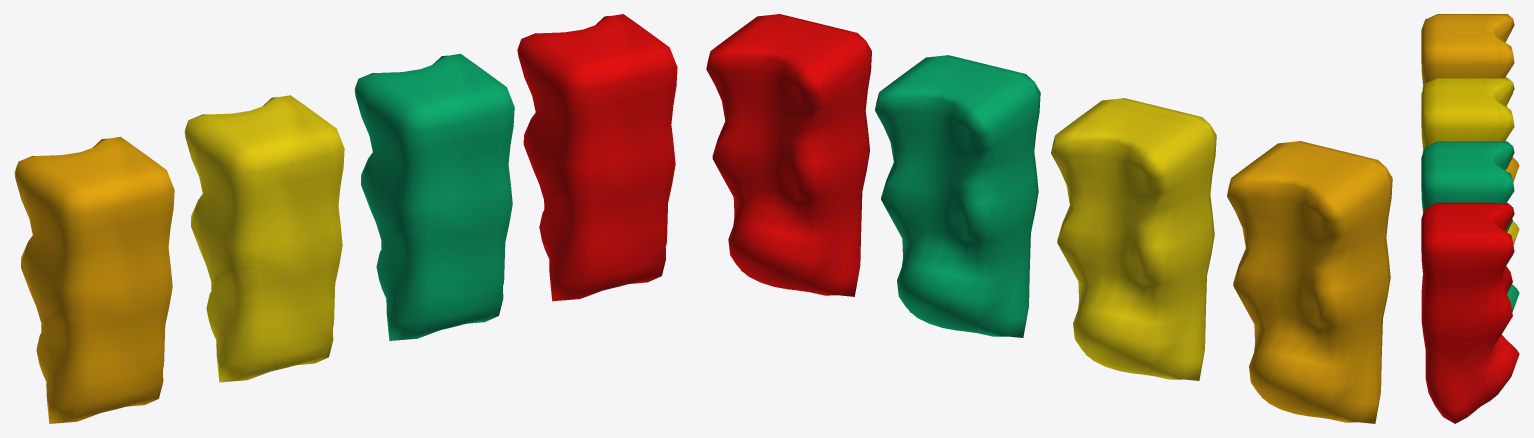
Rendered from gummibär.fbx.
The picture shows the model from 3 angles, left to right: view 1: azimuth 30°, elevation 25°; view 2: azimuth 150°, elevation 25°; view 3: azimuth 270°, elevation 25°; orthographic projection. The views are drawn at different scales.
Visible parts, largest first — view 1: pCube17, pCube18, pCube19, pCube14; view 2: pCube14, pCube18, pCube17, pCube19; view 3: pCube19, pCube17, pCube18, pCube14.
Boxes of the visible parts, x1=… form: pCube17: x1=184, y1=95, x2=344, y2=382; pCube18: x1=14, y1=136, x2=174, y2=423; pCube19: x1=517, y1=14, x2=677, y2=301; pCube14: x1=354, y1=53, x2=514, y2=340; pCube14: x1=875, y1=55, x2=1040, y2=337; pCube18: x1=1227, y1=141, x2=1392, y2=423; pCube17: x1=1051, y1=98, x2=1216, y2=380; pCube19: x1=706, y1=14, x2=871, y2=296; pCube19: x1=1421, y1=202, x2=1519, y2=423; pCube17: x1=1421, y1=77, x2=1519, y2=244; pCube18: x1=1421, y1=14, x2=1519, y2=181; pCube14: x1=1421, y1=141, x2=1519, y2=312.
Bounding box in the file's own units: 32.6 × 12.28 × 5.87.
